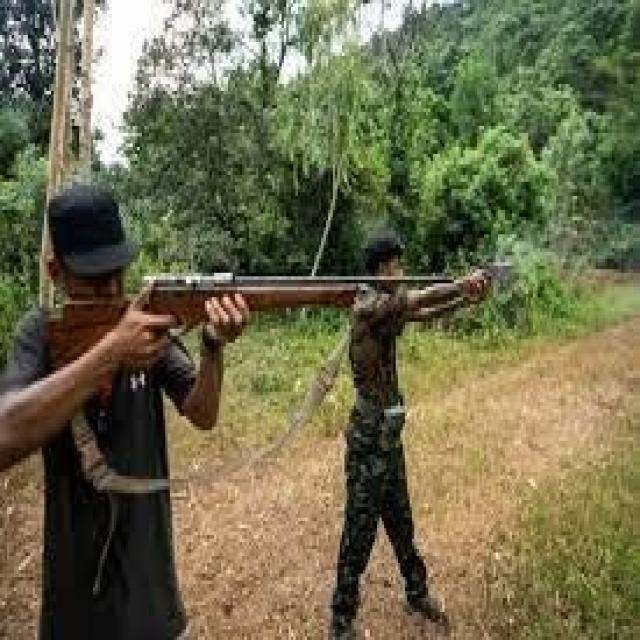gun: (46, 280, 450, 374), (477, 261, 516, 299)
